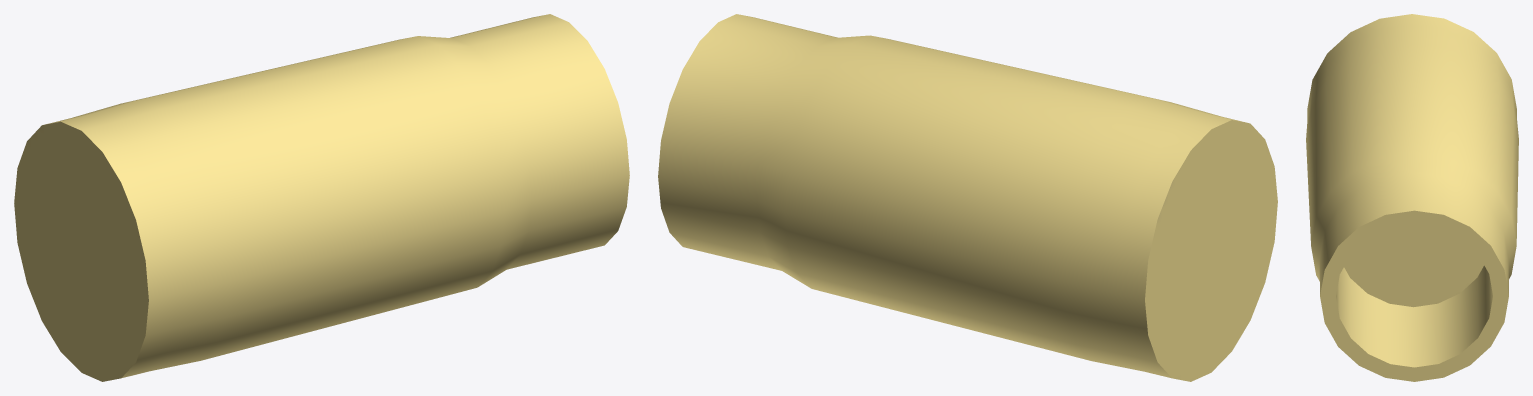
File: Prop_Bullet.fbx
3 renders of one model, left to right at view 1: azimuth 30°, elevation 25°; view 2: azimuth 150°, elevation 25°; view 3: azimuth 270°, elevation 25°, orthographic. The views are drawn at different scales.
Parts seen in each view (by area): view 1: Prop_Bullet; view 2: Prop_Bullet; view 3: Prop_Bullet.
Boxes of the visible parts, <box> form: Prop_Bullet: <box>14,14,629,381</box>; Prop_Bullet: <box>658,14,1277,381</box>; Prop_Bullet: <box>1306,14,1518,381</box>.
Bounding box in the file's own units: 2.47 × 1.18 × 1.18.
